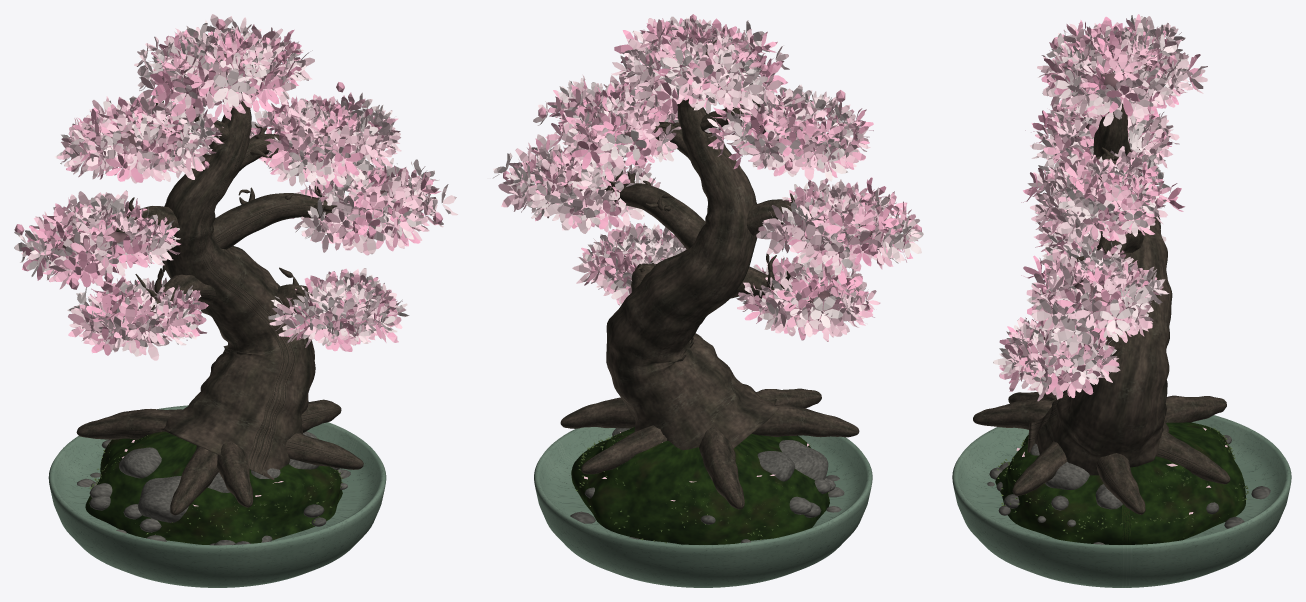
The model's file is bonsai.glb.
3 renders of one model, left to right at view 1: azimuth 30°, elevation 25°; view 2: azimuth 150°, elevation 25°; view 3: azimuth 270°, elevation 25°, orthographic.
Parts seen in each view (by area): view 1: Blossoms, Bark, Pot, Mound, Rock6, Rock52; view 2: Blossoms, Bark, Pot, Mound, Rock6, Rock52; view 3: Blossoms, Bark, Pot, Mound, Rock29, MossTufts, PadCores.
Boxes of the visible parts, x1,y1,x2,y2 form: Blossoms: [14, 14, 457, 360]; Bark: [76, 63, 363, 515]; Pot: [48, 405, 386, 587]; Mound: [85, 431, 342, 544]; Rock6: [138, 476, 188, 522]; Rock52: [119, 447, 161, 478]; Blossoms: [492, 14, 923, 341]; Bark: [560, 39, 859, 509]; Pot: [534, 427, 872, 587]; Mound: [571, 427, 829, 544]; Rock6: [779, 440, 828, 480]; Rock52: [757, 451, 794, 481]; Blossoms: [993, 14, 1207, 401]; Bark: [973, 39, 1230, 514]; Pot: [952, 415, 1291, 587]; Mound: [995, 422, 1245, 544]; Rock29: [1045, 462, 1089, 489]; MossTufts: [997, 425, 1248, 538]; PadCores: [1052, 50, 1150, 356].
Bounding box in the file's own units: 0.4465 × 0.5148 × 0.3123.
Materials: 8 (5 with a texture image).
